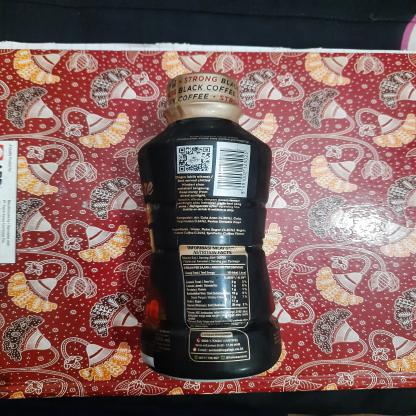plastic: (133, 66, 290, 384)
